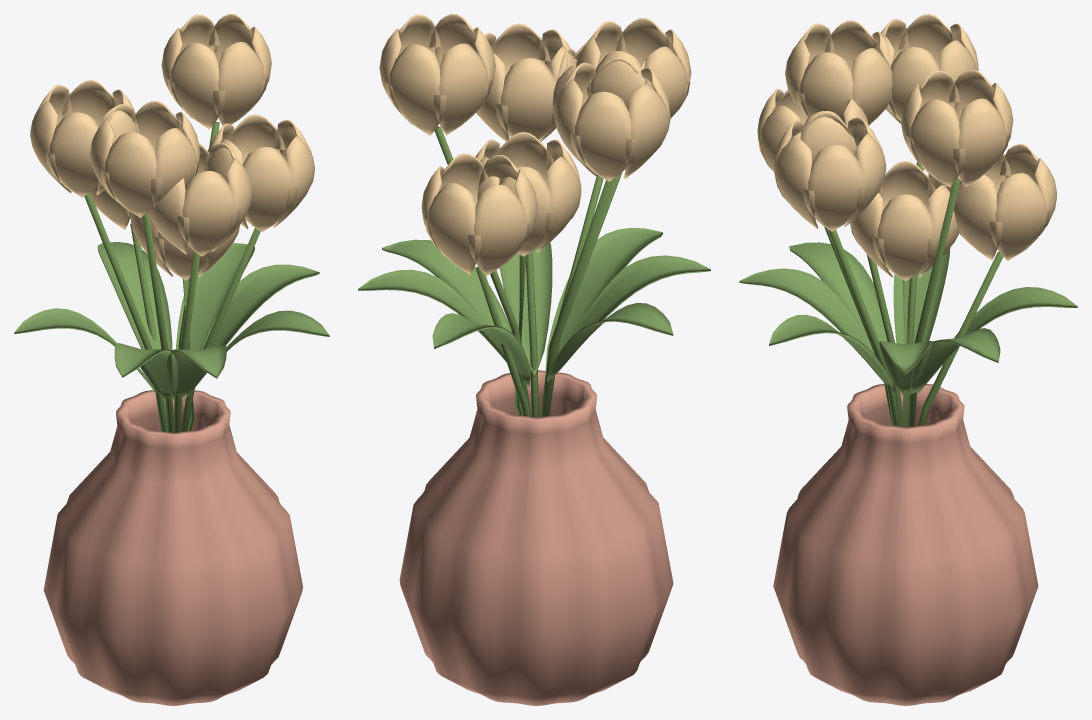
Rendered from tulip_vase.glb.
3 views of the same model, side by side, from view 1: azimuth 30°, elevation 25°; view 2: azimuth 150°, elevation 25°; view 3: azimuth 270°, elevation 25° (orthographic). The views are drawn at different scales.
Visible parts, largest first — view 1: tulip_vase__body, tulip_vase__flowers, tulip_vase__leaves, tulip_vase__stems; view 2: tulip_vase__body, tulip_vase__flowers, tulip_vase__leaves, tulip_vase__stems; view 3: tulip_vase__body, tulip_vase__flowers, tulip_vase__leaves, tulip_vase__stems.
Part boxes in pixels (<box>): tulip_vase__body: <box>43,390,302,705</box>; tulip_vase__flowers: <box>30,14,314,280</box>; tulip_vase__leaves: <box>14,242,329,401</box>; tulip_vase__stems: <box>84,122,260,432</box>; tulip_vase__body: <box>399,370,673,705</box>; tulip_vase__flowers: <box>379,14,691,275</box>; tulip_vase__leaves: <box>358,227,710,386</box>; tulip_vase__stems: <box>434,126,622,417</box>; tulip_vase__body: <box>773,384,1038,705</box>; tulip_vase__flowers: <box>757,14,1056,280</box>; tulip_vase__leaves: <box>739,242,1077,396</box>; tulip_vase__stems: <box>824,161,1002,427</box>.
Bounding box in the file's own units: 0.2328 × 0.4669 × 0.2302.
